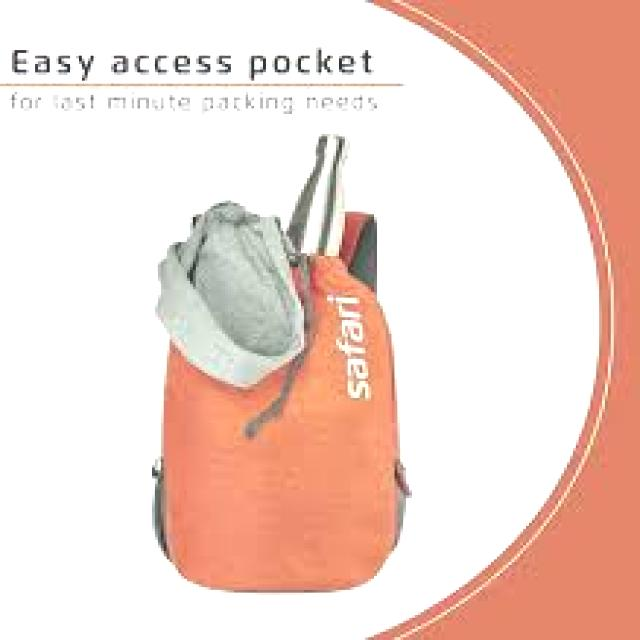backpack: (150, 132, 410, 594)
